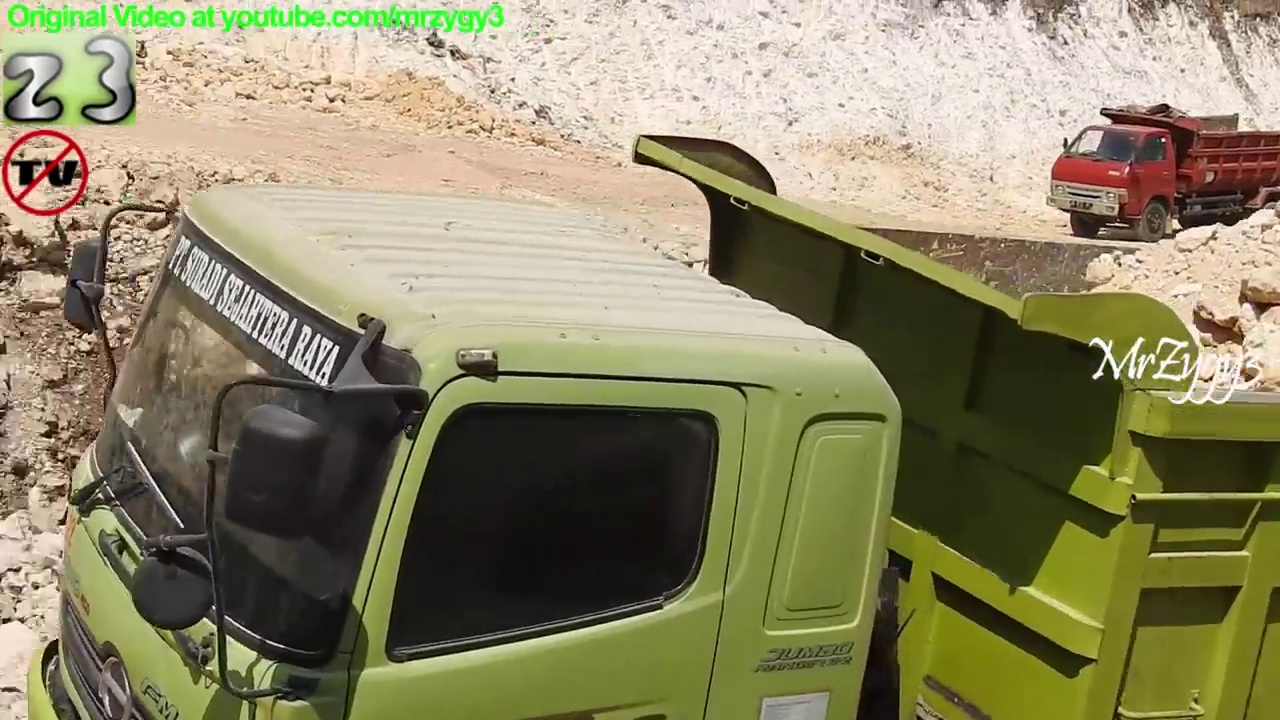truck: (24, 133, 1280, 720), (1044, 102, 1280, 243)
